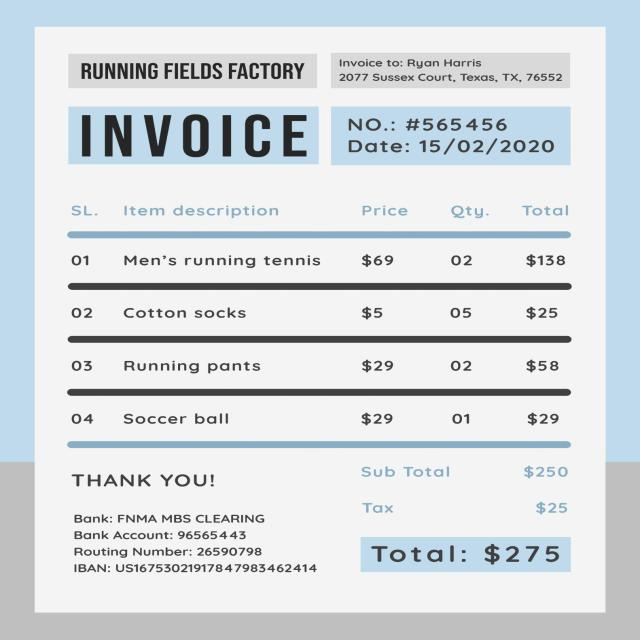paragraph: (359, 461, 578, 574), (70, 507, 324, 576), (67, 106, 316, 164), (334, 106, 570, 164), (331, 51, 562, 90), (67, 54, 316, 90), (69, 471, 219, 492)
table: (36, 194, 588, 448)
